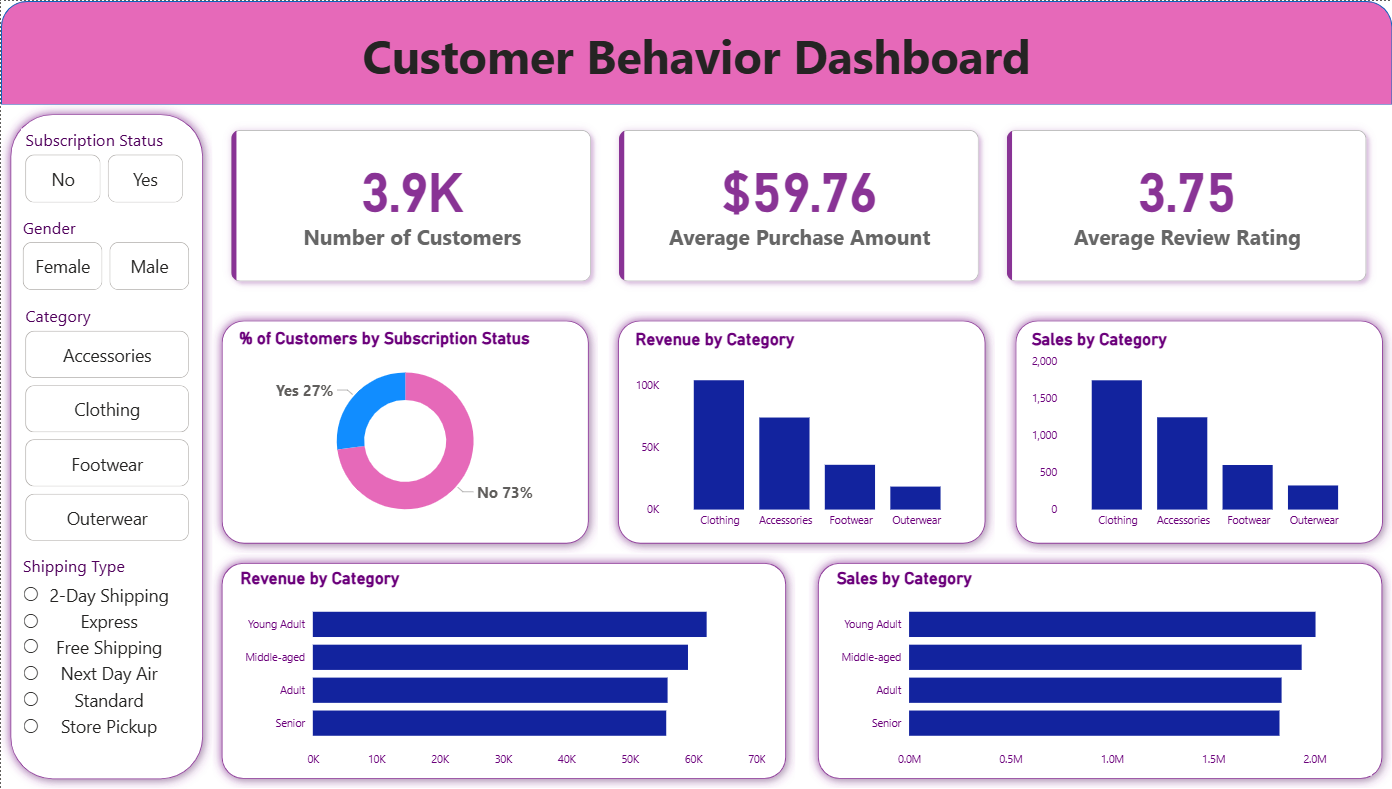

The page's visual inventory and layout, read from the dashboard file:
{"tool":"powerbi","page":{"name":"Page 1","canvas":[1590,900],"ordinal":0},"visuals":[{"type":"cardVisual","fields":{"Data":["customer_behavior customer.Number of Customers","customer_behavior customer.Average Purchase Amount","customer_behavior customer.Average Review Rating"]},"box":[234.3,118.6,1355.7,231.4],"z":0},{"type":"shape","box":[0,0,1590,118.6],"z":1000},{"type":"textbox","box":[0,21.4,1590,97.1],"z":2000},{"type":"shape","box":[242.1,354.6,441.1,276.7],"z":3000},{"type":"donutChart","title":"% of Customers by Subscription Status","fields":{"Category":["customer_behavior customer.subscription_status"],"Y":["CountNonNull(customer_behavior customer.customer_id)"]},"box":[267.1,374.3,390,235.7],"z":4000},{"type":"shape","box":[694.9,354.6,441.7,276.7],"z":5000},{"type":"shape","box":[1148.2,354.6,441.7,276.7],"z":6000},{"type":"clusteredColumnChart","title":"Revenue by Category","fields":{"Category":["customer_behavior customer.category"],"Y":["Sum(customer_behavior customer.purchase_amount)"]},"box":[720,375.7,391.4,235.7],"z":7000},{"type":"clusteredColumnChart","title":"Sales by Category","fields":{"Category":["customer_behavior customer.category"],"Y":["CountNonNull(customer_behavior customer.customer_id)"]},"box":[1172.9,375.7,392.9,235.7],"z":8000},{"type":"shape","box":[0,118.3,241.7,781.7],"z":9000},{"type":"advancedSlicerVisual","title":"Subscription Status","fields":{"Values":["customer_behavior customer.subscription_status"]},"box":[23.3,145,190,90],"z":10000},{"type":"advancedSlicerVisual","title":"Gender","fields":{"Values":["customer_behavior customer.gender"]},"box":[20,246.1,201.7,90],"z":11000},{"type":"advancedSlicerVisual","title":"Category","fields":{"Values":["customer_behavior customer.category"]},"box":[22.5,347.2,197.5,275],"z":12000},{"type":"listSlicer","title":"Shipping Type","fields":{"Values":["customer_behavior customer.shipping_type"]},"box":[20,633.3,196.7,218.3],"z":13000},{"type":"shape","box":[241.7,631.7,666.7,268.3],"z":14000},{"type":"shape","box":[923.3,631.7,666.7,268.3],"z":15000},{"type":"clusteredBarChart","title":"Sales by Category","fields":{"Category":["customer_behavior customer.age_group"],"Y":["Sum(customer_behavior customer.customer_id)"]},"box":[950,648.3,616.7,236.7],"z":16000},{"type":"clusteredBarChart","title":"Revenue by Category","fields":{"Category":["customer_behavior customer.age_group"],"Y":["Sum(customer_behavior customer.purchase_amount)"]},"box":[268.3,648.3,610,236.7],"z":17000}]}

Visuals, with their boxes in screenshot pixels (x1, y1, x2, y2), scaled from the page's 1590x900 canvas onto the 1392x789 screenshot:
cardVisual - customer_behavior customer.Number of Customers x customer_behavior customer.Average Purchase Amount: {"x1": 205, "y1": 104, "x2": 1391, "y2": 307}
shape: {"x1": 0, "y1": 0, "x2": 1391, "y2": 104}
textbox: {"x1": 0, "y1": 19, "x2": 1391, "y2": 104}
shape: {"x1": 212, "y1": 311, "x2": 598, "y2": 553}
"% of Customers by Subscription Status" donutChart: {"x1": 234, "y1": 328, "x2": 575, "y2": 535}
shape: {"x1": 608, "y1": 311, "x2": 995, "y2": 553}
shape: {"x1": 1005, "y1": 311, "x2": 1391, "y2": 553}
"Revenue by Category" clusteredColumnChart: {"x1": 630, "y1": 329, "x2": 973, "y2": 536}
"Sales by Category" clusteredColumnChart: {"x1": 1027, "y1": 329, "x2": 1371, "y2": 536}
shape: {"x1": 0, "y1": 104, "x2": 212, "y2": 788}
"Subscription Status" advancedSlicerVisual: {"x1": 20, "y1": 127, "x2": 187, "y2": 206}
"Gender" advancedSlicerVisual: {"x1": 18, "y1": 216, "x2": 194, "y2": 295}
"Category" advancedSlicerVisual: {"x1": 20, "y1": 304, "x2": 193, "y2": 545}
"Shipping Type" listSlicer: {"x1": 18, "y1": 555, "x2": 190, "y2": 747}
shape: {"x1": 212, "y1": 554, "x2": 795, "y2": 788}
shape: {"x1": 808, "y1": 554, "x2": 1391, "y2": 788}
"Sales by Category" clusteredBarChart: {"x1": 832, "y1": 568, "x2": 1372, "y2": 776}
"Revenue by Category" clusteredBarChart: {"x1": 235, "y1": 568, "x2": 769, "y2": 776}
